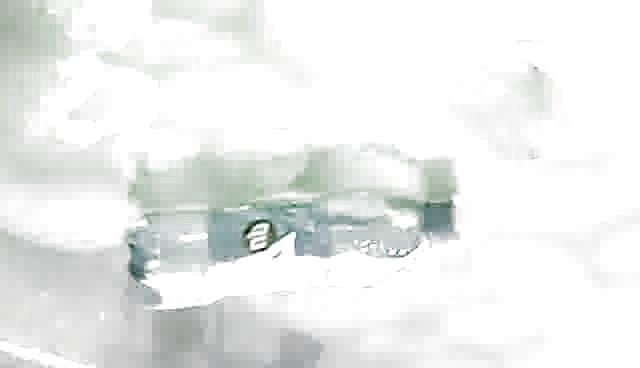Plastic: (120, 184, 472, 319)
